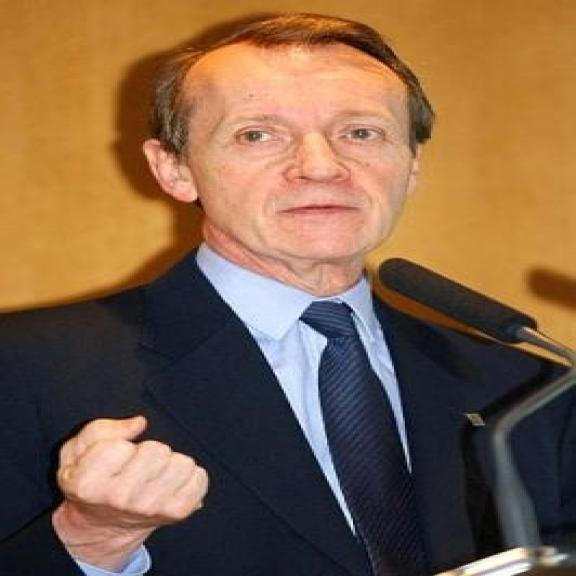face: (142, 28, 440, 263)
